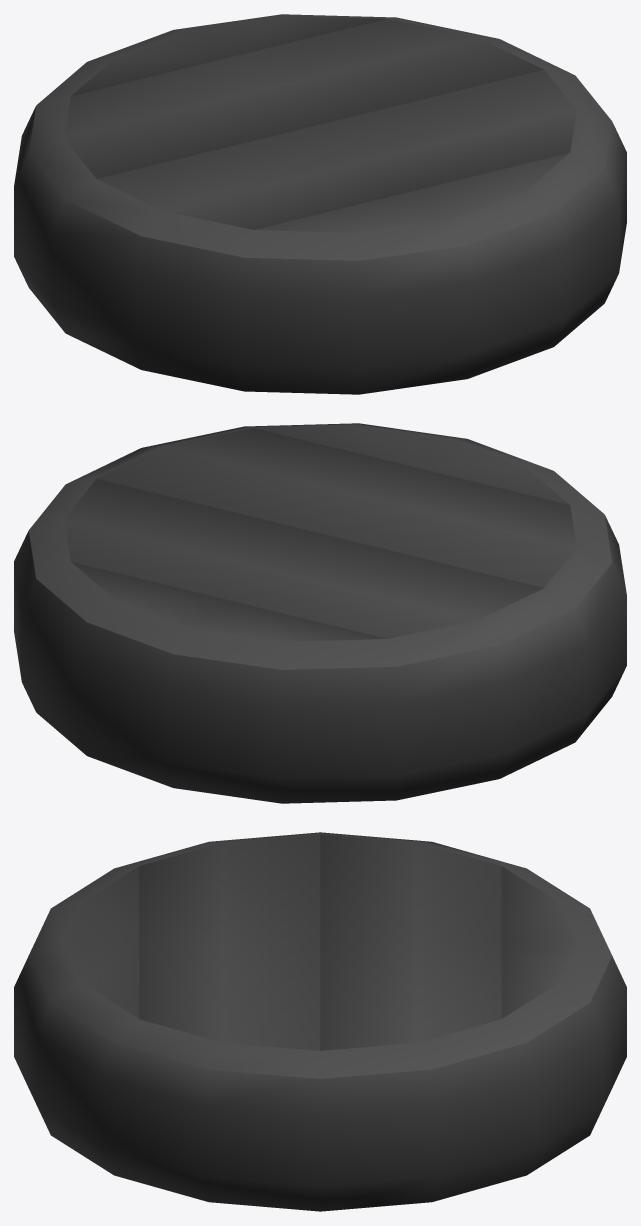
File: food_ingredient_burger_trash.obj
3 views of the same model, one above another, from view 1: azimuth 30°, elevation 25°; view 2: azimuth 150°, elevation 25°; view 3: azimuth 270°, elevation 25° (orthographic).
Parts seen in each view (by area): view 1: food_ingredient_burger_trash_Cylinder.056; view 2: food_ingredient_burger_trash_Cylinder.056; view 3: food_ingredient_burger_trash_Cylinder.056.
Boxes of the visible parts, x1=… form: food_ingredient_burger_trash_Cylinder.056: x1=14, y1=14, x2=626, y2=394; food_ingredient_burger_trash_Cylinder.056: x1=14, y1=423, x2=626, y2=803; food_ingredient_burger_trash_Cylinder.056: x1=14, y1=832, x2=626, y2=1211.
Size of the model in its own units: 0.7 by 0.2 by 0.7.
1 material, 1 textured.
